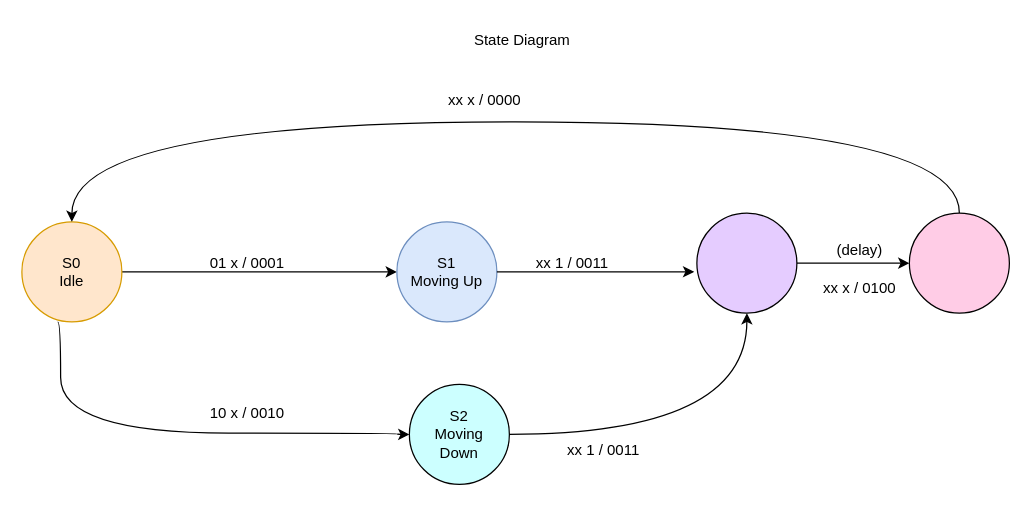
The diagram is 1031 pixels wide and 506 high, and some of its shapes have lost their labels. The box of each missing label's shape, as (x1, y1, x2, y2) in pixels:
S3 Doors Opening: (696, 212, 797, 313)
S4 Doors Closing: (908, 212, 1009, 313)
